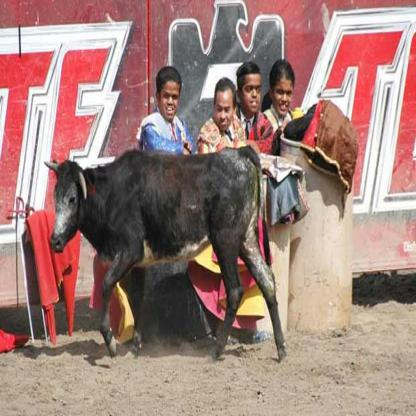face: (242, 75, 263, 114), (274, 77, 294, 116), (160, 82, 180, 121), (215, 94, 234, 132)
